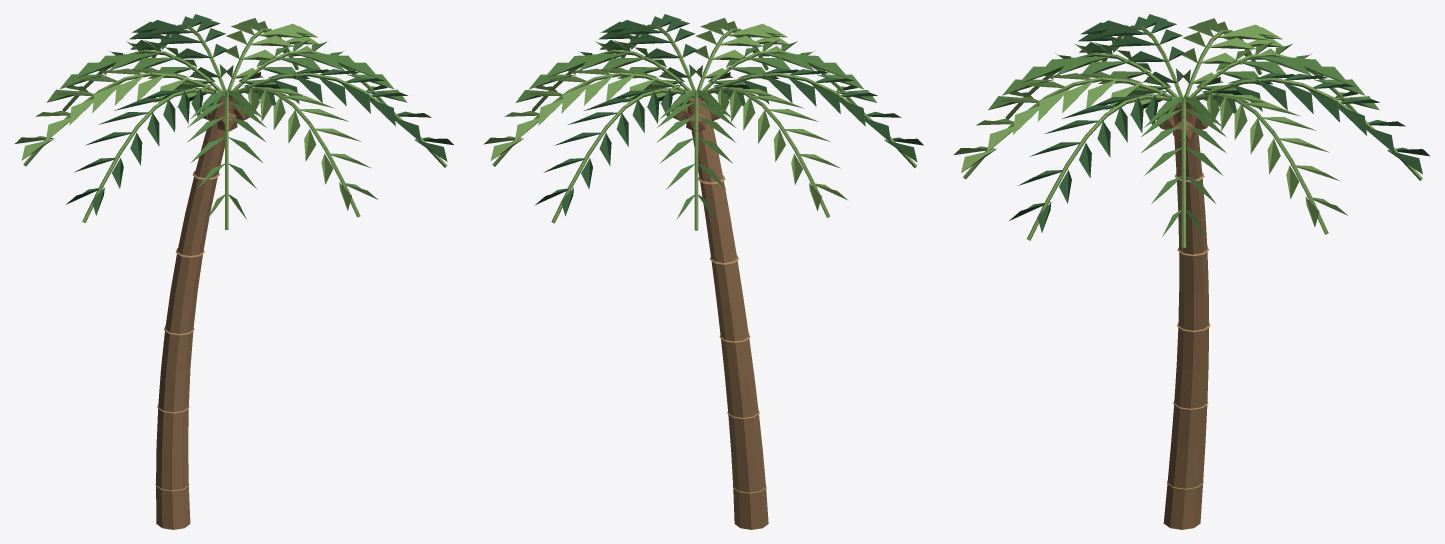
Rendered from palm.glb.
3 views of the same model, side by side, from view 1: azimuth 30°, elevation 25°; view 2: azimuth 150°, elevation 25°; view 3: azimuth 270°, elevation 25° (orthographic). The views are drawn at different scales.
Parts seen in each view (by area): view 1: palm_palm_light, curved_trunk-col, palm_palm_dark, palm_palm; view 2: palm_palm_light, curved_trunk-col, palm_palm_dark, palm_palm; view 3: palm_palm_light, curved_trunk-col, palm_palm_dark, palm_palm.
Part boxes in pixels (x1=…): palm_palm_light: x1=15, y1=18, x2=447, y2=229; curved_trunk-col: x1=156, y1=97, x2=236, y2=529; palm_palm_dark: x1=66, y1=14, x2=453, y2=215; palm_palm: x1=46, y1=40, x2=407, y2=219; palm_palm_light: x1=484, y1=18, x2=917, y2=230; curved_trunk-col: x1=686, y1=97, x2=768, y2=529; palm_palm_dark: x1=534, y1=14, x2=923, y2=215; palm_palm: x1=515, y1=40, x2=876, y2=219; palm_palm_light: x1=954, y1=18, x2=1422, y2=248; curved_trunk-col: x1=1163, y1=104, x2=1208, y2=529; palm_palm_dark: x1=1009, y1=14, x2=1429, y2=232; palm_palm: x1=988, y1=42, x2=1379, y2=236.
Bounding box in the file's own units: 5.33 × 6.23 × 5.62.
